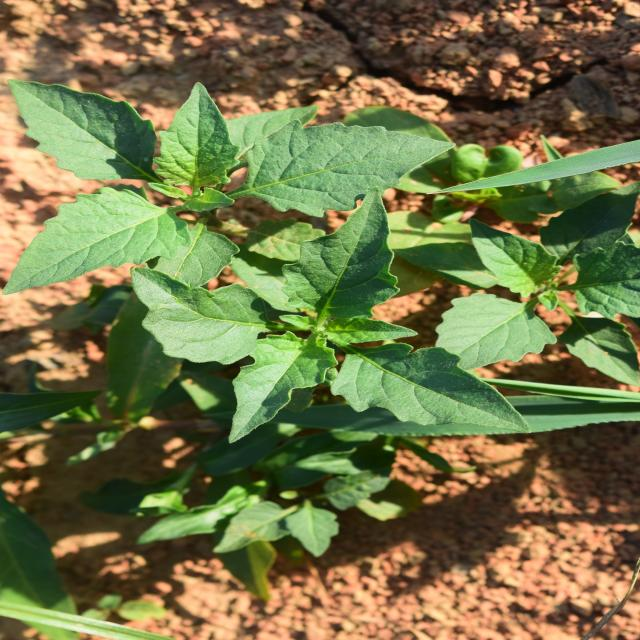Black_nightshade: (349, 11, 560, 414), (202, 113, 432, 480)
